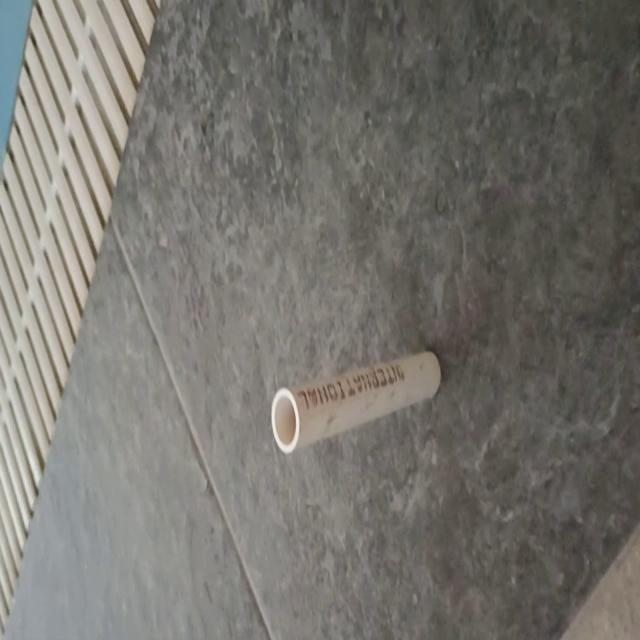Cube: (270, 349, 442, 455)
